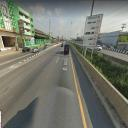speed_limit_100: (95, 23, 101, 32)
speed_limit_120: (96, 18, 100, 24)
speed_limit_80: (93, 35, 97, 42)
speed_limit_90: (94, 30, 98, 36)
